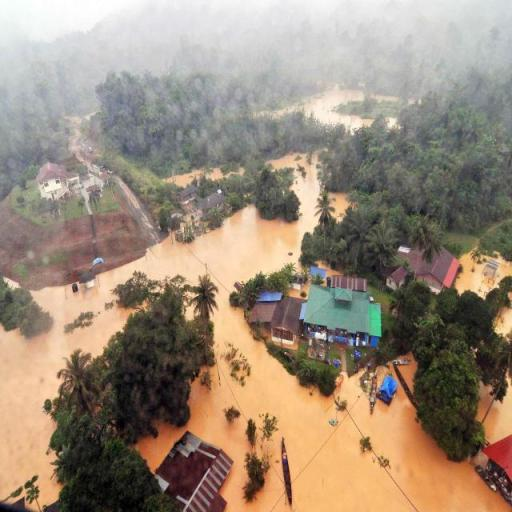flood: (0, 154, 512, 512), (285, 90, 397, 130), (454, 255, 512, 299), (477, 376, 512, 445), (330, 194, 350, 222), (494, 308, 512, 336)
house: (155, 427, 235, 512), (304, 284, 383, 349), (417, 248, 460, 290), (482, 433, 512, 492), (38, 164, 80, 201), (272, 296, 302, 346), (386, 268, 408, 290), (176, 185, 198, 204)
